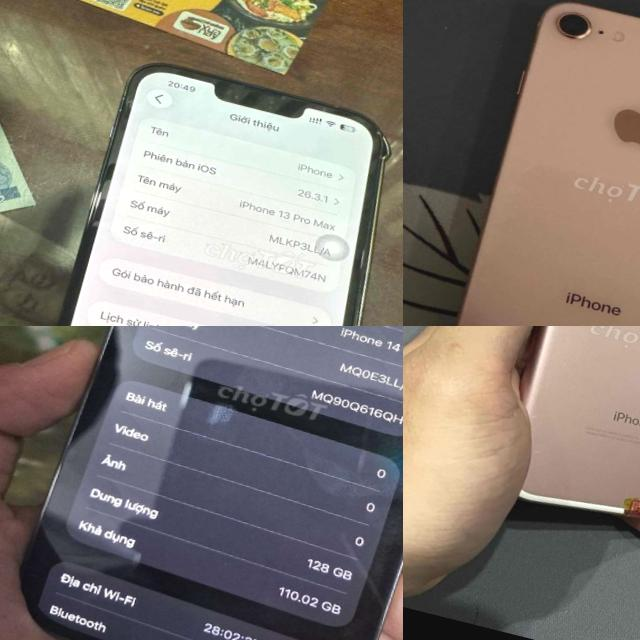scratch: (549, 6, 597, 44)
